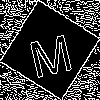M: (25, 25, 75, 79)
